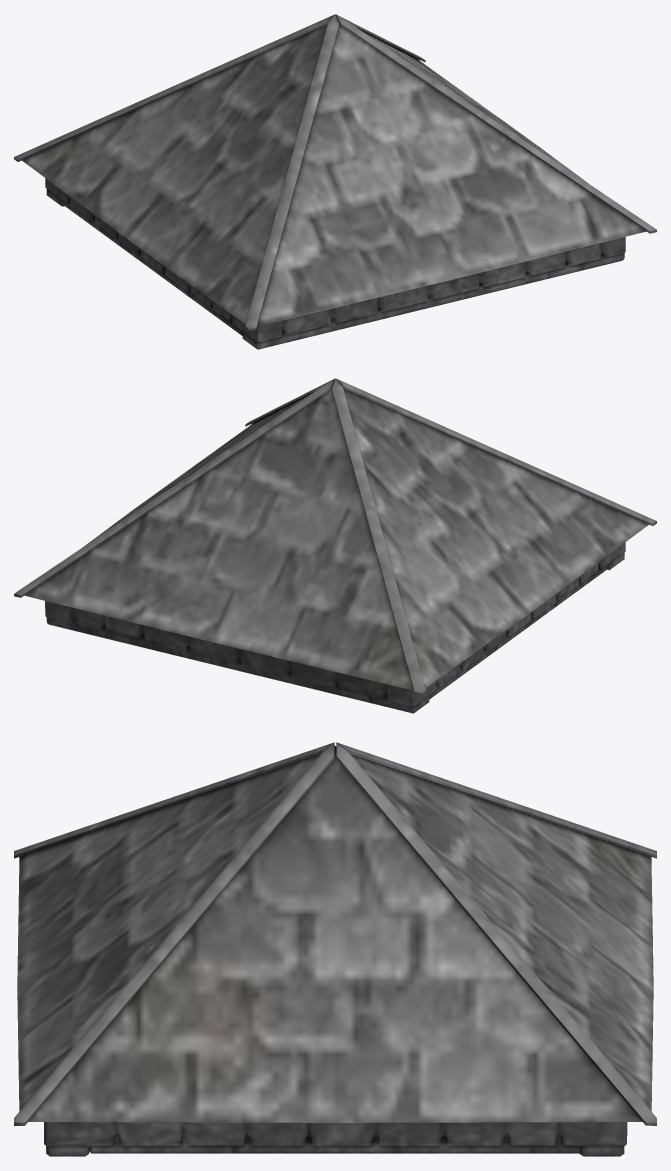
File: SM_PyramidRoof_Stone_d654c4.glb
3 renders of one model, top to bottom at view 1: azimuth 30°, elevation 25°; view 2: azimuth 150°, elevation 25°; view 3: azimuth 270°, elevation 25°, orthographic. The views are drawn at different scales.
Bounding box in the file's own units: 4.42 × 2.22 × 4.42.
1 material, 1 textured.
